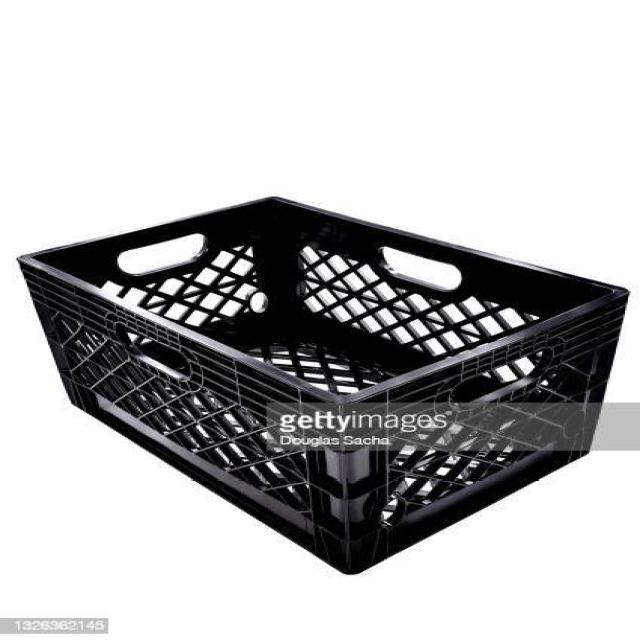basket: (0, 139, 633, 625)
